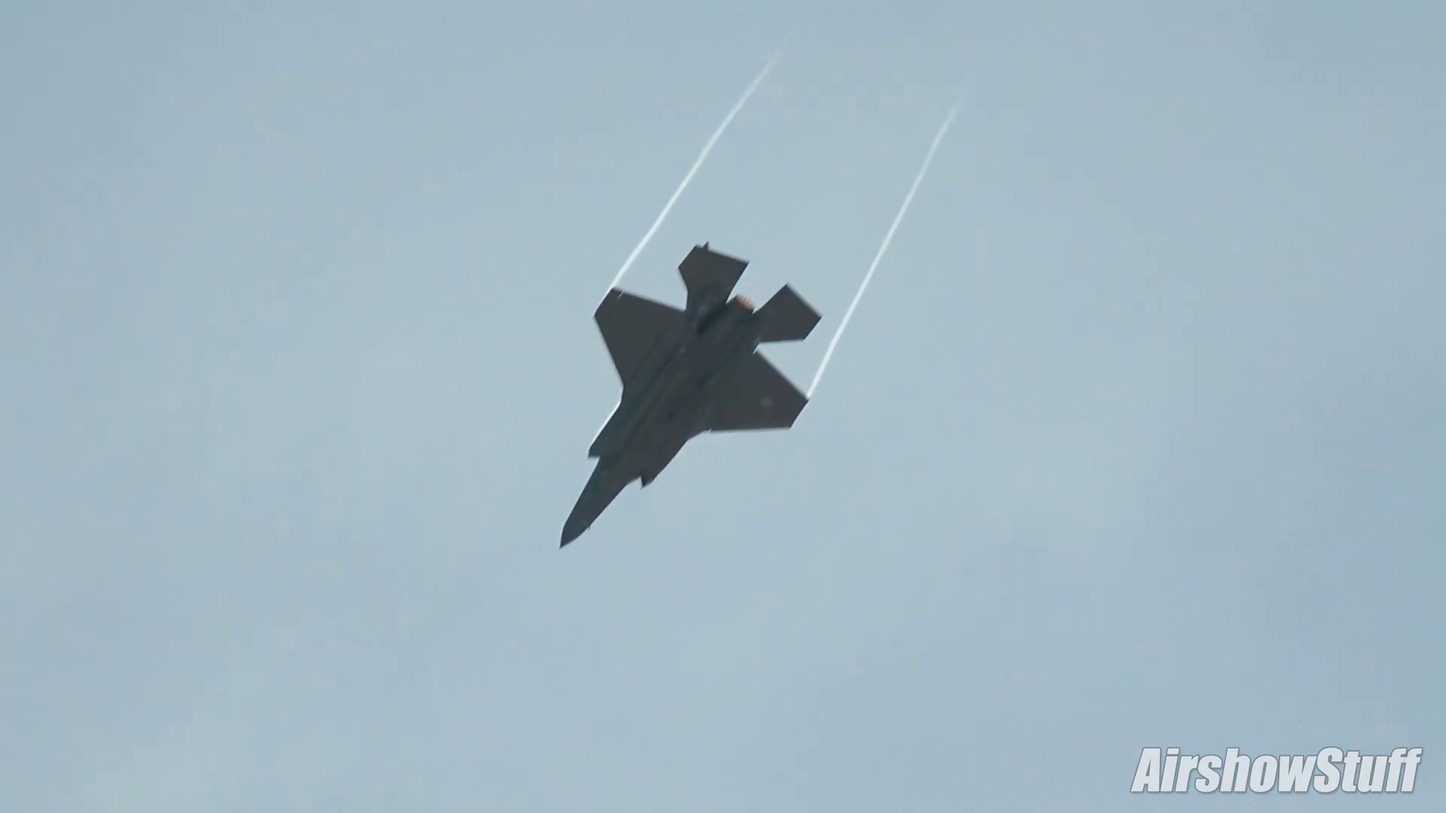F35: (551, 237, 831, 563)
